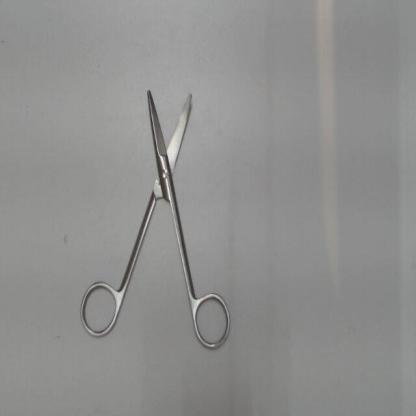Curved Mayo Scissors: (74, 78, 235, 359)
